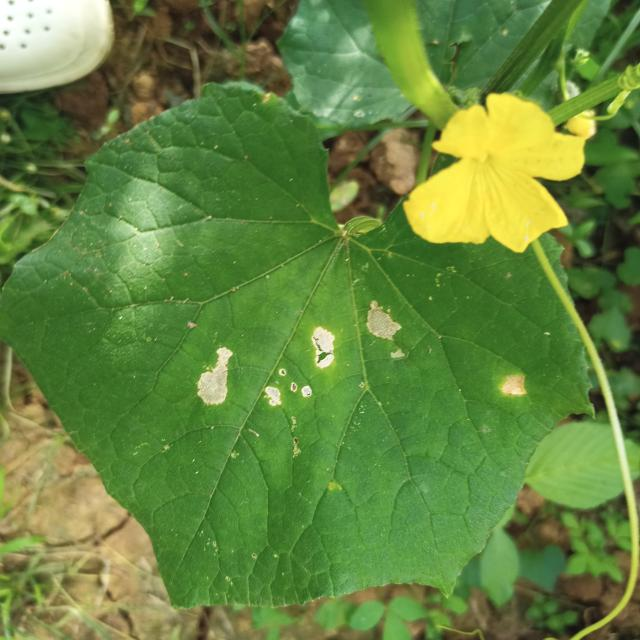disease_cucumber: (195, 301, 406, 411), (498, 372, 527, 397)
